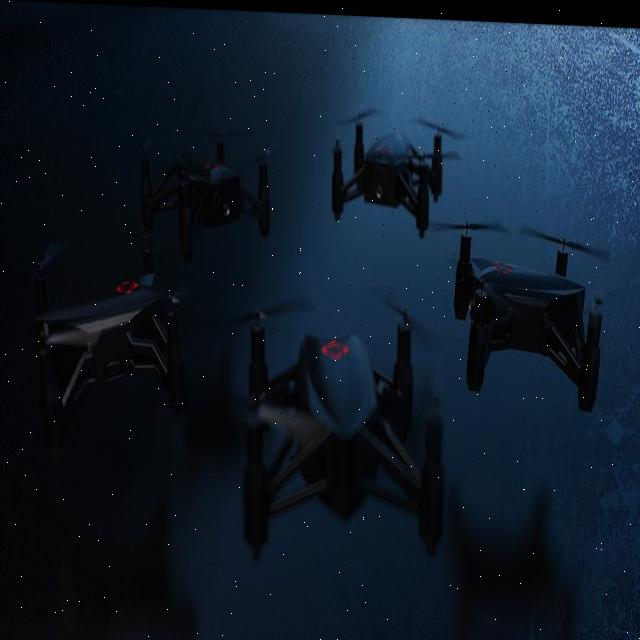drone: (222, 285, 458, 554), (432, 202, 627, 412), (27, 238, 200, 415), (144, 132, 304, 254), (316, 96, 456, 230)
